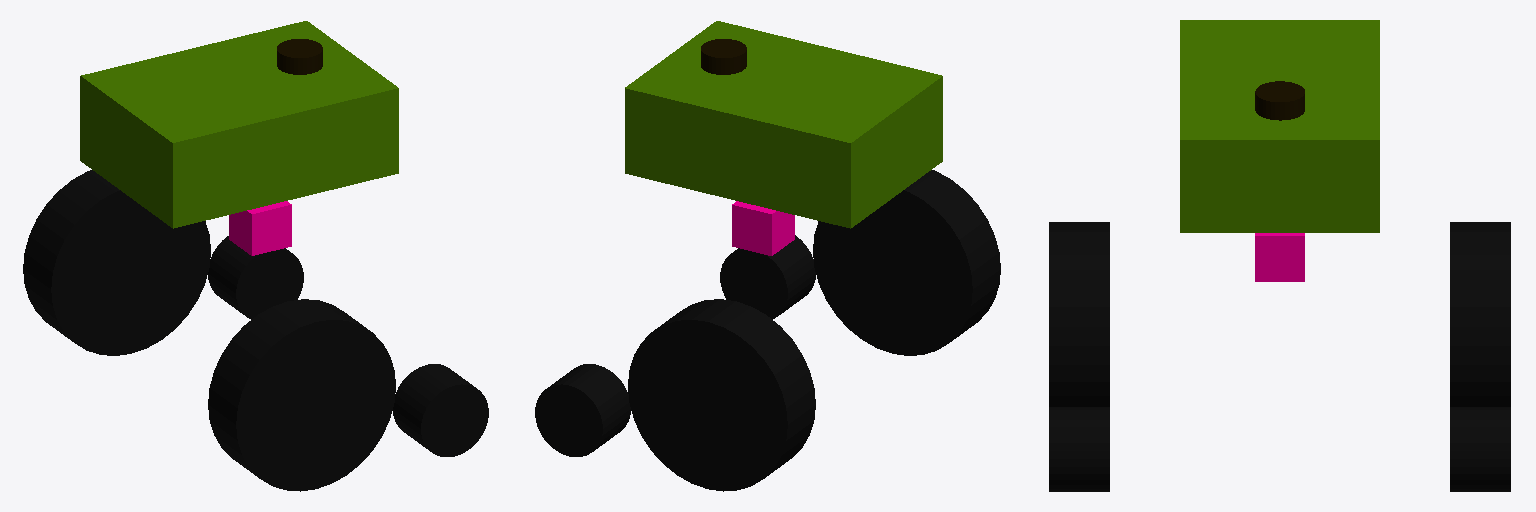
The robot description file, URDF, robot "dcvg_robot":
<robot name="dcvg_robot">
  <link name="base_footprint"></link>

  <joint name="base_joint" type="fixed">
    <parent link="base_footprint" />
    <child link="base_link" />
    <origin xyz="0 0 0.08" rpy="0 0 0" />
  </joint>

  <link name="base_link">
    <visual>
      <origin xyz="0 0.105 0" rpy="0 0 0" />
      <geometry>
        <mesh filename="package://dcvg_robot_description/meshes/DCVG_Robot.stl" scale="0.1 0.1 0.1" />
      </geometry>
      <material name="base_link-material">
        <color rgba="0.12743768042608497 0.2704977910022518 0.033104766565152086 1" />
      </material>
    </visual>
    <collision>
      <origin xyz="0 0.105 0.2715012243252391" rpy="0 0 0" />
      <geometry>
        <box size="1 0.65 0.5" />
      </geometry>
    </collision>
    <inertial>
      <origin xyz="0 0.105 0.2715012243252391" rpy="0 0 0" />
      <mass value="1" />
      <inertia ixx="0.16666666666666666" ixy="0" ixz="0" iyy="0.16666666666666666" iyz="0" izz="0.16666666666666666" />
    </inertial>
  </link>

  <joint name="base_link_to_right_wheel" type="continuous">
    <parent link="base_link" />
    <child link="right_wheel" />
    <origin xyz="-0.12705949983365117 -0.4009616629101749 0.10252579476793128" rpy="-1.5707963267948963 0 0" />
    <axis xyz="0 0 1"/>
  </joint>

  <link name="right_wheel">
    <visual>
      <origin xyz="0 0 0" rpy="0 0 0" />
      <geometry>
        <cylinder radius="0.2" length="0.122" />
      </geometry>
      <material name="right_wheel-material">
        <color rgba="0.08437621153575764 0.08437621153575764 0.08437621153575764 1" />
      </material>
    </visual>
    <collision>
      <origin xyz="0 0 0" rpy="0 0 0" />
      <geometry>
        <cylinder radius="0.205" length="0.132" />
      </geometry>
    </collision>
    <inertial>
      <origin xyz="0 0 0" rpy="0 0 0" />
      <mass value="5" />
      <inertia ixx="1.6666666666666665" ixy="0" ixz="0" iyy="2.5" iyz="0" izz="1.6666666666666665" />
    </inertial>
  </link>

  <joint name="base_link_to_left_wheel" type="continuous">
    <parent link="base_link" />
    <child link="left_wheel" />
    <origin xyz="-0.12705949983365117 0.4 0.10252579476793128" rpy="-1.5707963267948963 0 0" />
    <axis xyz="0 0 1"/>
  </joint>

  <link name="left_wheel">
    <visual>
      <origin xyz="0 0 0" rpy="0 0 0" />
      <geometry>
        <cylinder radius="0.2" length="0.122" />
      </geometry>
      <material name="left_wheel-material">
        <color rgba="0.08437621153575764 0.08437621153575764 0.08437621153575764 1" />
      </material>
    </visual>
    <collision>
      <origin xyz="0 0 0" rpy="0 0 0" />
      <geometry>
        <cylinder radius="0.225" length="0.132" />
      </geometry>
    </collision>
    <inertial>
      <origin xyz="0 0 0" rpy="0 0 0" />
      <mass value="5" />
      <inertia ixx="1.6666666666666665" ixy="0" ixz="0" iyy="2.5" iyz="0" izz="1.6666666666666665" />
    </inertial>
  </link>

  <joint name="base_link_to_right_caster_front" type="continuous">
    <parent link="base_link" />
    <child link="right_caster_front" />
    <origin xyz="0.22 -0.4009616629101749 -0.015" rpy="-1.5707963267948963 0 0" />
    <axis xyz="0 0 1"/>
  </joint>

  <link name="right_caster_front">
    <visual>
      <origin xyz="0 0 0" rpy="0 0 0" />
      <geometry>
        <cylinder radius="0.085" length="0.122" />
      </geometry>
      <material name="right_caster_front-material">
        <color rgba="0.08437621153575764 0.08437621153575764 0.08437621153575764 1" />
      </material>
    </visual>
    <collision>
      <origin xyz="0 0 0" rpy="0 0 0" />
      <geometry>
        <cylinder radius="0.09" length="0.132" />
      </geometry>
    </collision>
    <inertial>
      <origin xyz="0 0 0" rpy="0 0 0" />
      <mass value="5" />
      <inertia ixx="1.6666666666666665" ixy="0" ixz="0" iyy="2.5" iyz="0" izz="1.6666666666666665" />
    </inertial>
  </link>

  <joint name="base_link_to_left_caster_front" type="continuous">
    <parent link="base_link" />
    <child link="left_caster_front" />
    <origin xyz="0.22 0.4 -0.015" rpy="-1.5707963267948963 0 0" />
    <axis xyz="0 0 1"/>
  </joint>

  <link name="left_caster_front">
    <visual>
      <origin xyz="0 0 0" rpy="0 0 0" />
      <geometry>
        <cylinder radius="0.085" length="0.122" />
      </geometry>
      <material name="left_caster_front-material">
        <color rgba="0.08437621153575764 0.08437621153575764 0.08437621153575764 1" />
      </material>
    </visual>
    <collision>
      <origin xyz="0 0 0" rpy="0 0 0" />
      <geometry>
        <cylinder radius="0.09" length="0.132" />
      </geometry>
    </collision>
    <inertial>
      <origin xyz="0 0 0" rpy="0 0 0" />
      <mass value="5" />
      <inertia ixx="1.6666666666666665" ixy="0" ixz="0" iyy="2.5" iyz="0" izz="1.6666666666666665" />
    </inertial>
  </link>

  <joint name="base_link_to_circuit_box" type="fixed">
    <parent link="base_link" />
    <child link="circuit_box" />
    <origin xyz="-0.051186530340802394 0 0.5696926006648109" rpy="0 0 0" />
  </joint>

  <link name="circuit_box">
    <visual>
      <origin xyz="0 0 0" rpy="0 0 0" />
      <geometry>
        <box size="0.566 0.4 0.204" />
      </geometry>
      <material name="circuit_box-material">
        <color rgba="0.3049873140591091 0.5028864580233624 0.02028856305209031 1" />
      </material>
    </visual>
    <collision>
      <origin xyz="0 0 0" rpy="0 0 0" />
      <geometry>
        <box size="0.566 0.4 0.204" />
      </geometry>
    </collision>
    <inertial>
      <origin xyz="0 0 0" rpy="0 0 0" />
      <mass value="1" />
      <inertia ixx="0.16666666666666666" ixy="0" ixz="0" iyy="0.16666666666666666" iyz="0" izz="0.16666666666666666" />
    </inertial>
  </link>

  <joint name="base_link_to_lidar" type="fixed">
    <parent link="base_link" />
    <child link="lidar" />
    <origin xyz="0.09919157283119712 0 0.6963953295940616" rpy="0 0 0" />
  </joint>

  <link name="lidar">
    <visual>
      <origin xyz="0 0 0" rpy="0 0 0" />
      <geometry>
        <cylinder radius="0.05" length="0.04" />
      </geometry>
      <material name="lidar-material">
        <color rgba="0.13013647668074665 0.09530746662221588 0.019382360952473074 1" />
      </material>
    </visual>
    <collision>
      <origin xyz="0 0 0" rpy="0 0 0" />
      <geometry>
        <cylinder radius="0.05" length="0.04" />
      </geometry>
    </collision>
    <inertial>
      <origin xyz="0 0 0" rpy="0 0 0" />
      <mass value="1" />
      <inertia ixx="0.3333333333333333" ixy="0" ixz="0" iyy="0.5" iyz="0" izz="0.3333333333333333" />
    </inertial>

        <sensor type="lidar" name="lidar">
            <always_on>true</always_on>
            <update_rate>5</update_rate>
            <origin>0.09919157283119712 0 0.6963953295940616 0 0 0</origin>
            <ray>
                <scan>
                    <horizontal>
                        <samples>360</samples>
                        <resolution>1</resolution>
                        <min_angle>0</min_angle>
                        <max_angle>6.28</max_angle>
                    </horizontal>
                    <range>
                        <min>0.12</min>
                        <max>3.5</max>
                        <resolution>0.015</resolution>
                    </range>
                </scan>
                <noise>
                    <type>gaussian</type>
                    <mean>0</mean>
                    <stddev>0.01</stddev>
                </noise>
            </ray>
        </sensor>
      </link>

  <joint name="gps_joint" type="fixed">
    <parent link="base_link"/>
    <child link="gps_link"/>
    <origin xyz="0 0 0" rpy="0 0 0"/>
  </joint>
  <link name="gps_link"/>

  <joint name="base_link_to_imu" type="fixed">
    <parent link="base_link" />
    <child link="imu" />
    <origin xyz="0 0 0.32499184842320095" rpy="0 0 0" />
  </joint>
  
  <link name="imu">
    <visual>
      <origin xyz="0 0 0" rpy="0 0 0" />
      <geometry>
        <box size="0.1 0.1 0.1" />
      </geometry>
      <material name="imu-material">
        <color rgba="1 0 0.6307571363387763 1" />
      </material>
    </visual>
    <collision>
      <origin xyz="0 0 0" rpy="0 0 0" />
      <geometry>
        <box size="0.1 0.1 0.1" />
      </geometry>
    </collision>
    <inertial>
      <origin xyz="0 0 0" rpy="0 0 0" />
      <mass value="1" />
      <inertia ixx="0.16666666666666666" ixy="0" ixz="0" iyy="0.16666666666666666" iyz="0" izz="0.16666666666666666" />
    </inertial>

        <sensor type="imu" name="imu">
            <always_on>true</always_on>
            <update_rate>100</update_rate>
            <origin>0 0 0.32499184842320095 0 0 0</origin>
            <imu>
                <noise>
                    <type>gaussian</type>
                    <mean>0</mean>
                    <stddev>0</stddev>
                </noise>
            </imu>
        </sensor>
      </link>
</robot>

--- Render facts (derived) ---
3 views of the same robot in one strip: view 1: azimuth 30°, elevation 25°; view 2: azimuth 150°, elevation 25°; view 3: azimuth 270°, elevation 25° (orthographic).
Model dcvg_robot with 10 links and 9 joints (4 continuous, 5 fixed), rooted at base_footprint, posed all joints at 0.
Links seen in each view (by area): view 1: circuit_box, right_wheel, left_wheel, right_caster_front, left_caster_front, imu, lidar; view 2: circuit_box, left_wheel, right_wheel, left_caster_front, right_caster_front, imu, lidar; view 3: circuit_box, right_wheel, left_wheel, right_caster_front, left_caster_front, imu, lidar.
Link boxes in pixels (box(x1,y1,x2,y2)): circuit_box: box(80, 21, 398, 228); right_wheel: box(208, 299, 395, 491); left_wheel: box(23, 170, 210, 355); right_caster_front: box(393, 364, 488, 456); left_caster_front: box(208, 236, 303, 319); imu: box(229, 201, 291, 255); lidar: box(277, 39, 322, 74); circuit_box: box(625, 21, 942, 228); left_wheel: box(628, 299, 815, 491); right_wheel: box(813, 170, 1000, 355); left_caster_front: box(535, 364, 630, 456); right_caster_front: box(720, 235, 815, 319); imu: box(732, 201, 794, 255); lidar: box(701, 39, 746, 74); circuit_box: box(1180, 20, 1379, 232); right_wheel: box(1049, 222, 1109, 406); left_wheel: box(1450, 222, 1510, 406); right_caster_front: box(1049, 407, 1109, 491); left_caster_front: box(1450, 407, 1510, 491); imu: box(1255, 233, 1304, 281); lidar: box(1255, 81, 1304, 120).
Size in the robot's own frame: 0.6392 by 0.923 by 0.8164 metres.
0 mesh visuals loaded from 1 distinct referenced files (none loaded); not drawn: 1 (reference not matched to a file when rendering).
